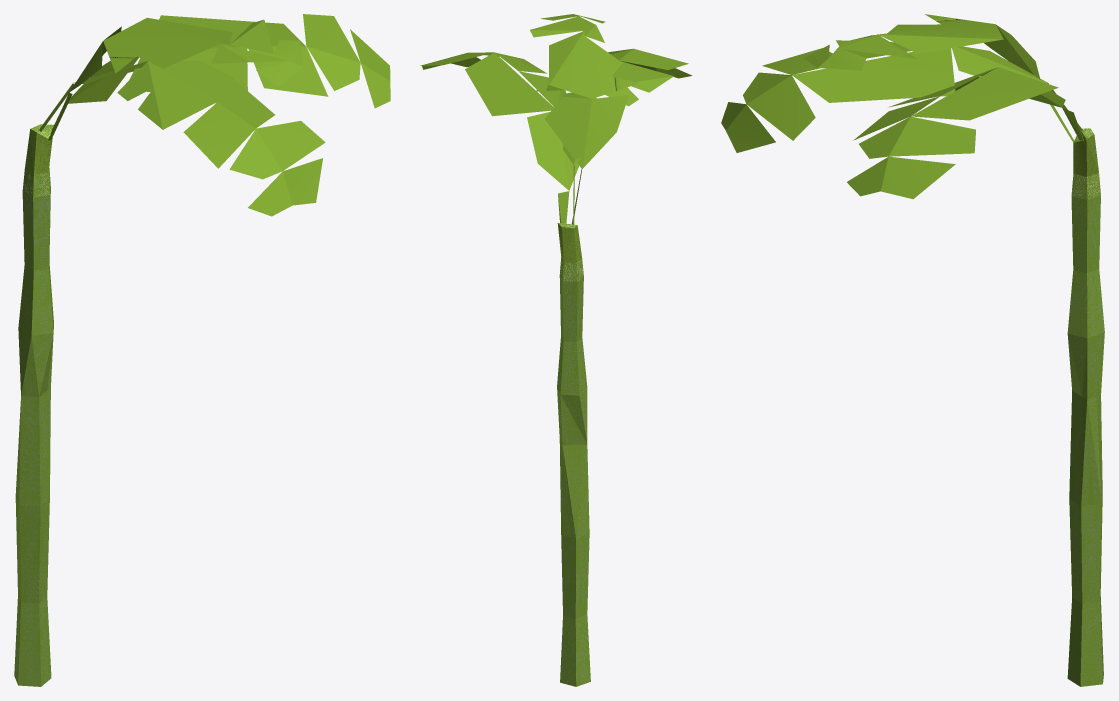
The model's file is Tree_Bamboo_02.fbx.
The picture shows the model from 3 angles, left to right: view 1: azimuth 30°, elevation 25°; view 2: azimuth 150°, elevation 25°; view 3: azimuth 270°, elevation 25°; orthographic projection. The views are drawn at different scales.
Parts seen in each view (by area): view 1: Model; view 2: Model; view 3: Model.
Part boxes in pixels (left/top/right/bottom): Model: left=14, top=14, right=390, bottom=686; Model: left=420, top=14, right=692, bottom=686; Model: left=721, top=14, right=1104, bottom=686.
Size of the model in its own units: 218 by 498 by 251.
